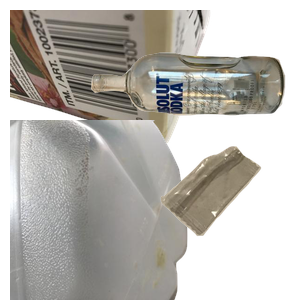cardboard: (10, 10, 213, 146)
glass: (88, 50, 300, 158)
plastic: (10, 120, 190, 300)
trash: (158, 144, 300, 300)
